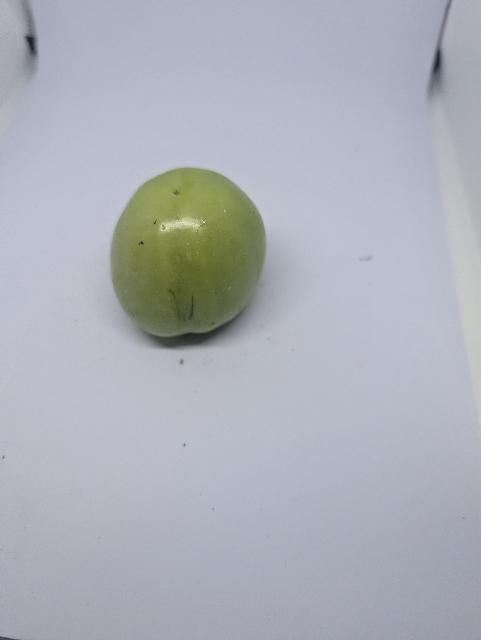green: (99, 158, 278, 348)
